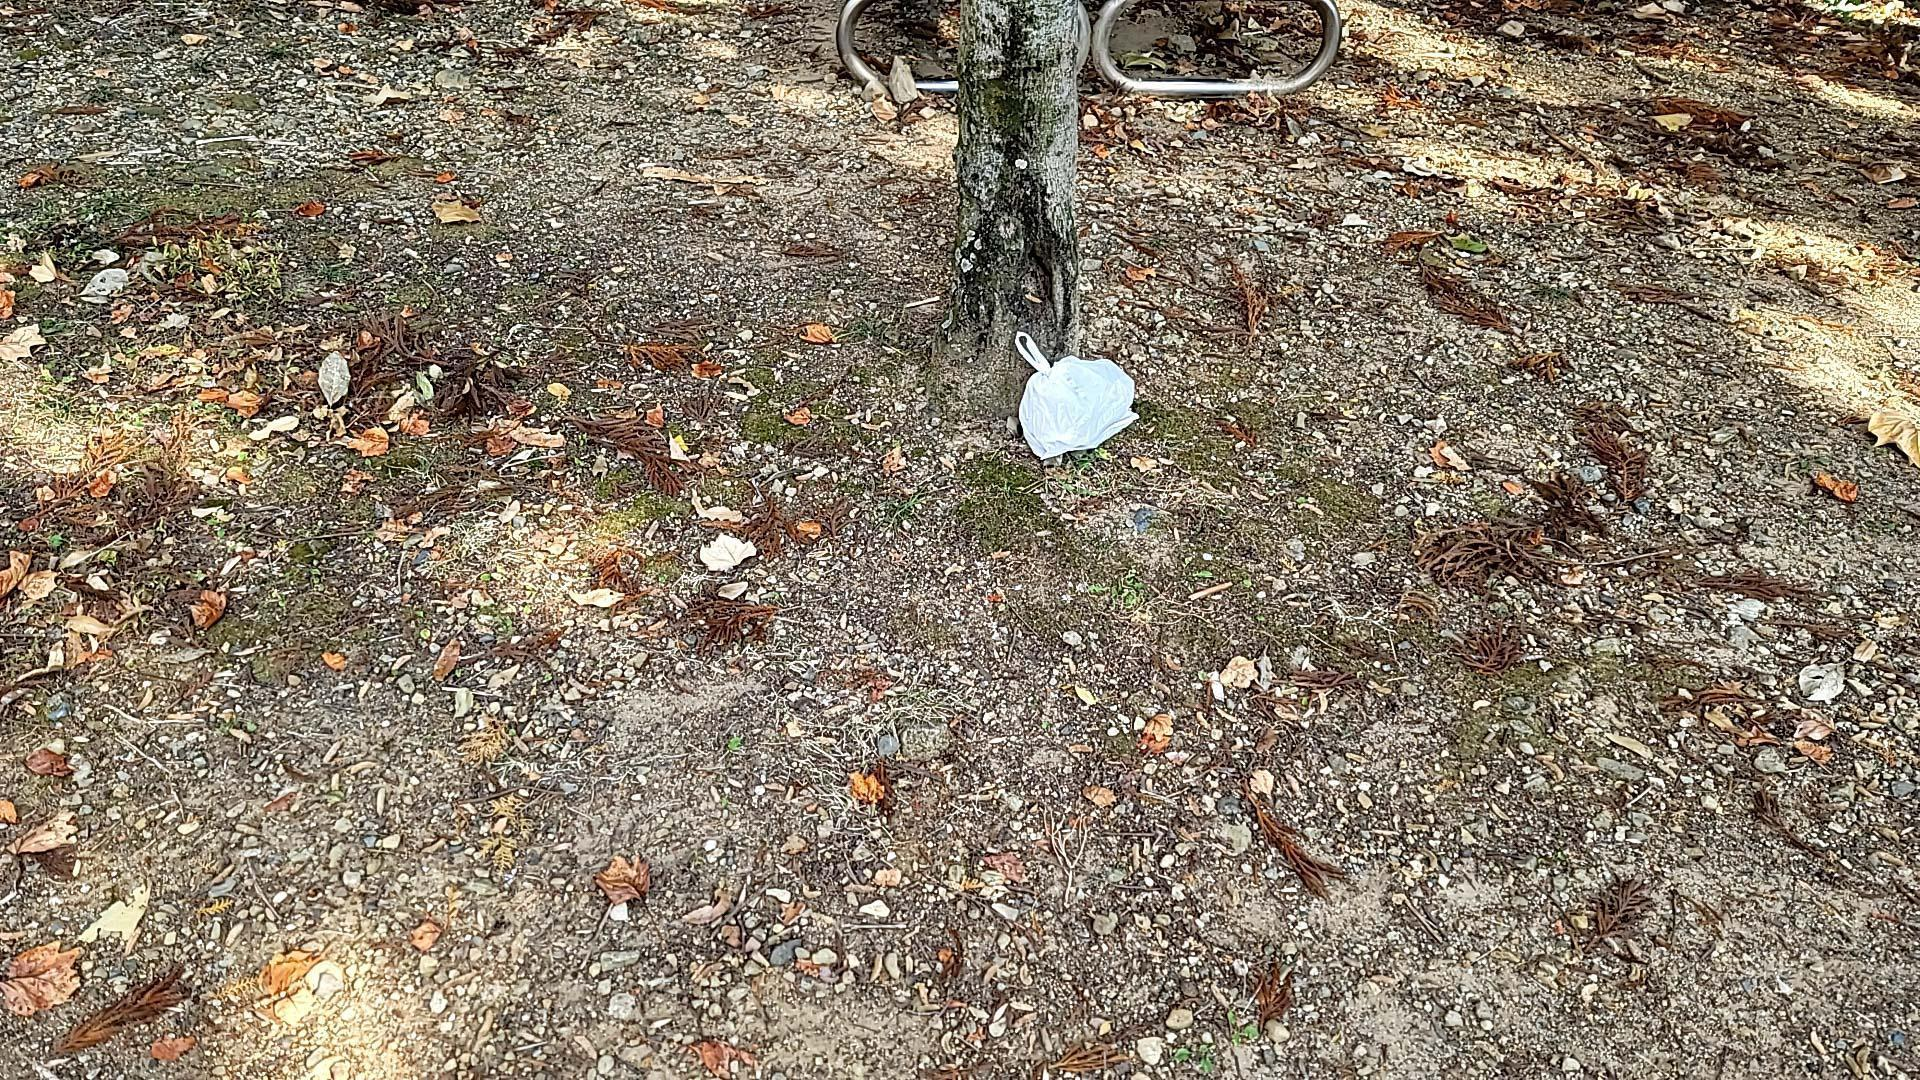white_bag: (1000, 318, 1156, 460)
